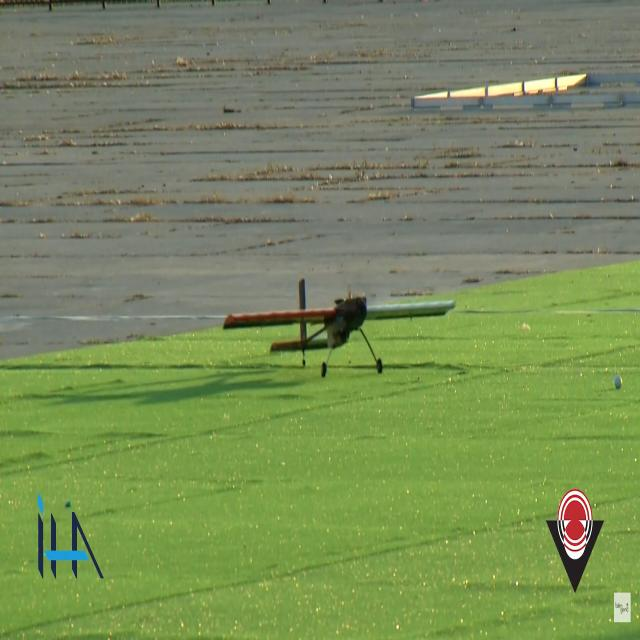iha: (222, 303, 458, 340)
